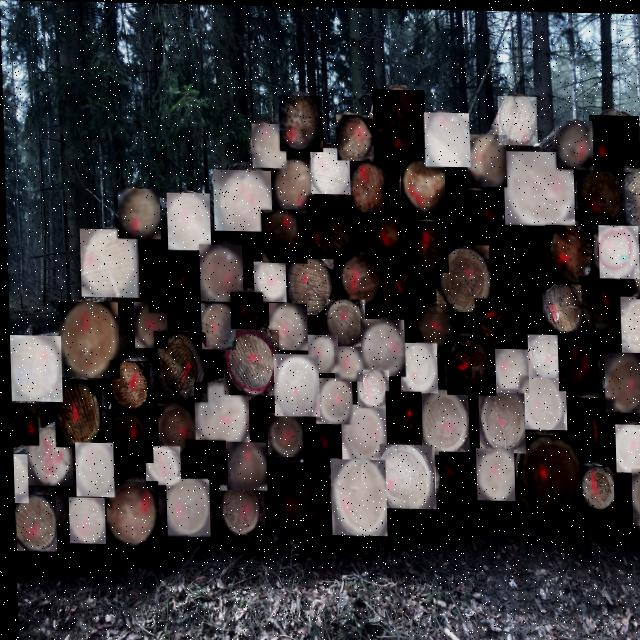wood-log: (488, 222, 554, 309), (502, 149, 574, 228), (261, 460, 327, 544), (514, 432, 580, 507), (57, 301, 118, 378), (328, 458, 384, 535), (79, 228, 138, 297), (221, 328, 278, 395), (434, 242, 490, 310), (372, 87, 425, 158), (152, 330, 205, 401), (378, 442, 435, 507), (192, 381, 247, 448), (212, 169, 271, 231), (103, 481, 157, 546), (8, 335, 60, 402), (305, 194, 358, 258), (146, 247, 197, 312), (52, 379, 100, 448), (418, 387, 467, 454), (446, 188, 501, 247), (564, 395, 614, 457), (544, 222, 593, 284), (476, 387, 523, 451), (444, 334, 494, 393), (271, 353, 318, 415), (589, 112, 640, 169), (286, 255, 334, 314), (24, 427, 70, 486), (576, 165, 621, 225), (358, 317, 404, 375), (517, 373, 565, 428), (399, 157, 445, 214), (165, 192, 210, 250), (163, 478, 207, 537), (423, 110, 470, 165), (338, 403, 384, 459), (198, 243, 242, 301), (278, 94, 322, 151), (104, 409, 151, 462), (260, 208, 306, 262), (577, 274, 620, 331), (12, 494, 54, 552), (338, 253, 382, 306), (602, 349, 640, 410), (556, 333, 597, 389), (347, 157, 389, 211), (404, 219, 447, 271), (597, 222, 638, 276), (116, 188, 159, 239), (73, 442, 112, 497), (107, 360, 149, 411), (217, 482, 258, 534), (466, 132, 506, 185), (183, 439, 224, 490), (473, 446, 512, 499), (272, 159, 314, 208), (473, 296, 514, 345), (540, 281, 580, 331), (378, 264, 417, 315), (497, 94, 537, 143), (398, 341, 436, 392), (155, 403, 195, 451), (224, 441, 264, 489), (413, 301, 453, 348), (309, 146, 349, 193), (555, 118, 593, 167), (267, 302, 306, 349), (363, 208, 402, 255), (325, 298, 364, 345), (335, 113, 374, 159), (313, 376, 351, 423), (300, 419, 337, 467), (66, 497, 103, 544), (383, 390, 420, 437), (436, 449, 472, 496), (199, 302, 234, 349), (264, 411, 300, 456), (132, 301, 166, 348), (251, 122, 286, 167), (577, 463, 612, 508), (526, 332, 561, 376), (493, 346, 527, 391), (142, 446, 178, 486), (252, 260, 285, 301), (613, 421, 640, 470), (354, 369, 387, 407), (229, 291, 262, 328), (619, 294, 640, 350), (306, 334, 336, 372), (624, 163, 640, 234), (9, 403, 36, 445), (332, 345, 361, 380), (11, 454, 26, 503), (629, 466, 640, 523), (633, 241, 640, 296)
